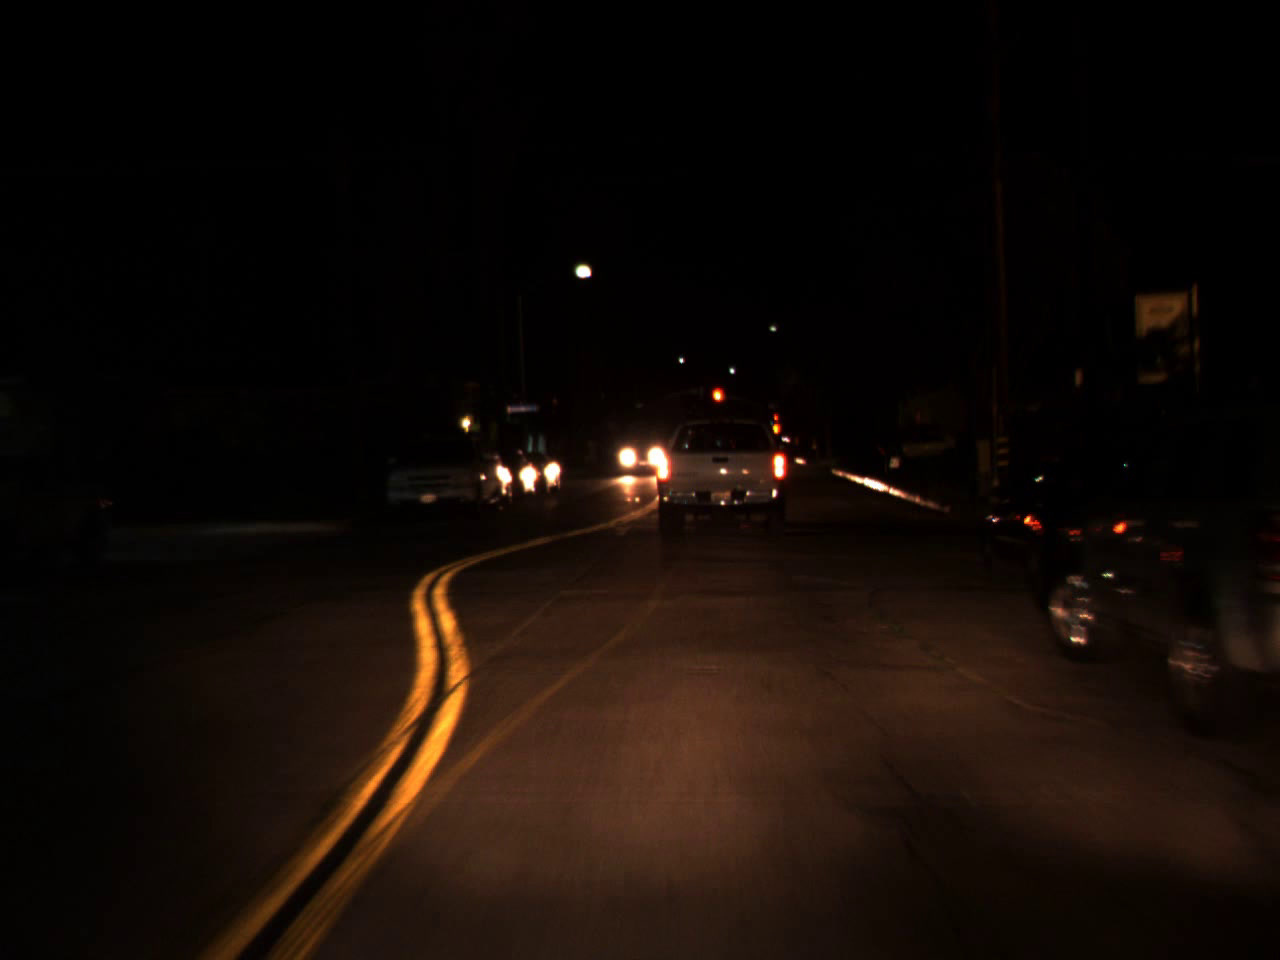stop: (712, 388, 722, 412), (772, 415, 778, 425)
